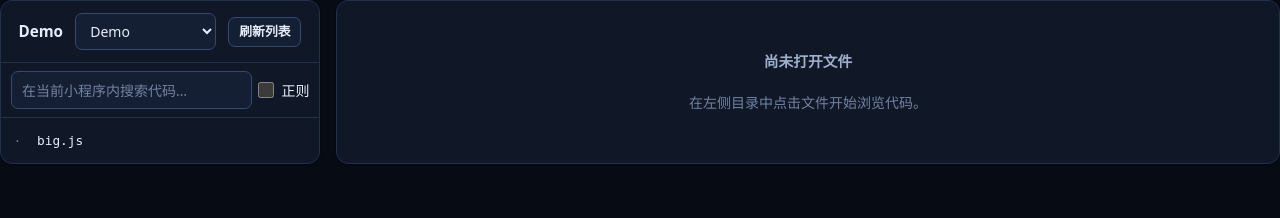
Scenario: CodeBrowserView › shows the truncated head of an oversized file instead of hiding it
Click the button with test id "tree-C__out_big_js" at (60, 140), box [7,125,313,156]
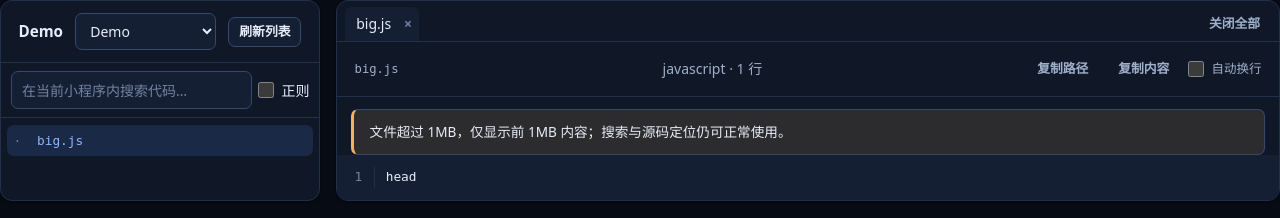
Expected: the text with class "file-warning" shows "仅显示前 1MB", [370,122,792,141]
Expected: the element with test id "code-content" shows "head", [386,170,416,184]
